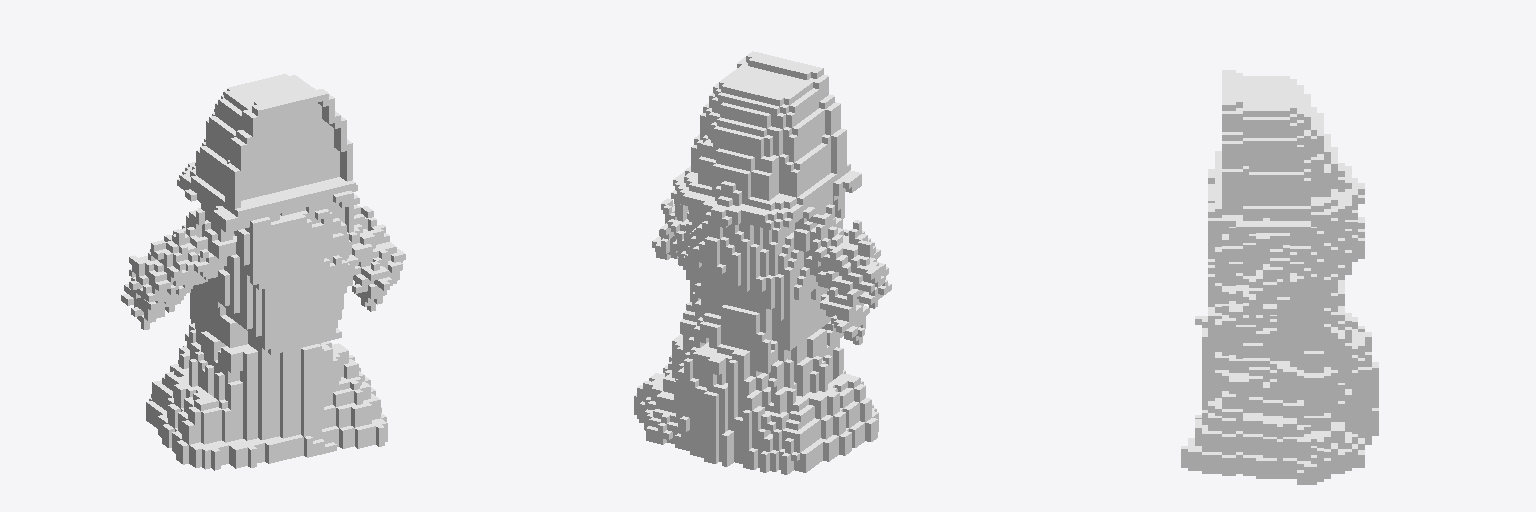
The model's file is player02.obj.
The picture shows the model from 3 angles: view 1: azimuth 30°, elevation 25°; view 2: azimuth 150°, elevation 25°; view 3: azimuth 270°, elevation 25°; orthographic projection.
Parts seen in each view (by area): view 1: object 1; view 2: object 1; view 3: object 1.
Part boxes in pixels (x1,y1,x2,y2): object 1: (121,74,405,470); object 1: (634,51,891,474); object 1: (1181,70,1378,484).
Size of the model in its own units: 4.1 by 5.6 by 2.9.